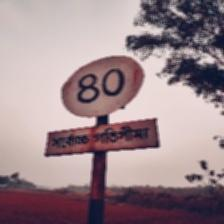Speed-limit: (46, 53, 156, 156)
